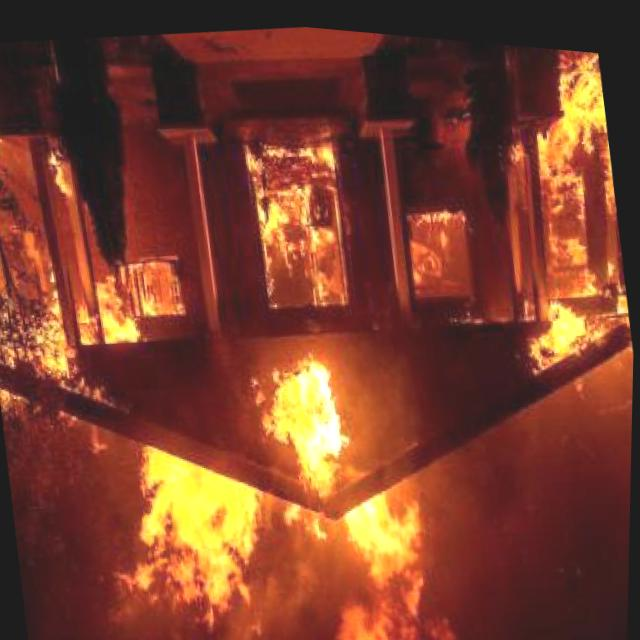Fire: (480, 34, 640, 377), (107, 434, 292, 640), (228, 107, 366, 312), (326, 467, 450, 640), (248, 328, 361, 511), (15, 268, 149, 396), (390, 175, 490, 315), (121, 252, 190, 320), (37, 132, 79, 224)
